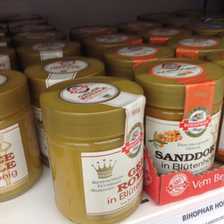honey: (32, 78, 150, 224), (133, 57, 224, 182)
